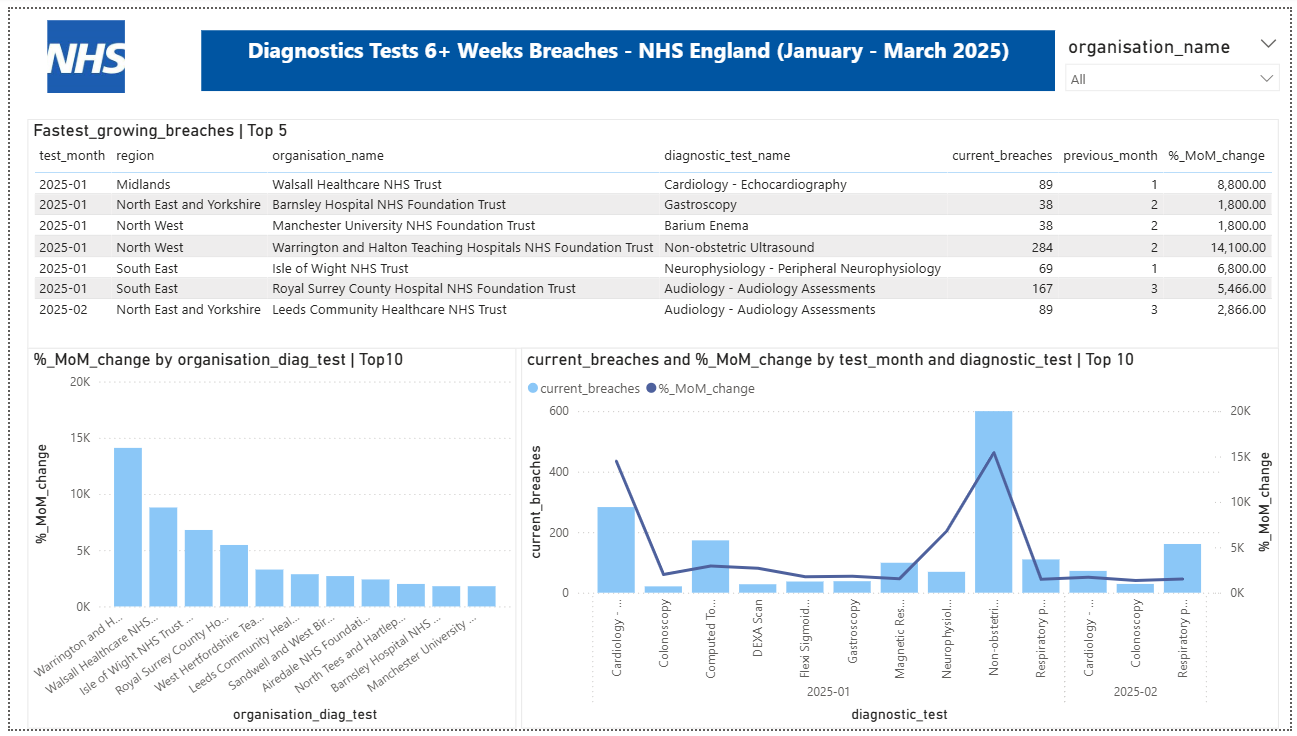

The page's visual inventory and layout, read from the dashboard file:
{"tool":"powerbi","page":{"name":"Diagnostics_Waiting_Times","canvas":[1280,720],"ordinal":2},"visuals":[{"type":"textbox","box":[190.8,20.8,854.8,61.1],"z":0},{"type":"image","box":[32.3,0,87.1,95.2],"z":1000},{"type":"clusteredColumnChart","title":"%_MoM_change by organisation_diag_test | Top10","fields":{"Category":["public diagnostics_6plus_weeks_breaches_analysis.organisation_diag_test"],"Y":["Sum(public diagnostics_6plus_weeks_breaches_analysis.percent_monthly_change)"]},"box":[17.3,339,489.1,380.9],"z":2000},{"type":"tableEx","title":"Fastest_growing_breaches | Top 5","fields":{"Values":["public diagnostics_6plus_weeks_breaches_analysis.test_month","public diagnostics_6plus_weeks_breaches_analysis.regional_name","public diagnostics_6plus_weeks_breaches_analysis.organisation_name","public diagnostics_6plus_weeks_breaches_analysis.diagnostic_test_name","public diagnostics_6plus_weeks_breaches_analysis.breaches_6plus_weeks","public diagnostics_6plus_weeks_breaches_analysis.previous_month_6plus_weeks_breaches","public diagnostics_6plus_weeks_breaches_analysis.percent_monthly_change"]},"box":[17.3,109.6,1250.9,229.4],"z":3000},{"type":"lineClusteredColumnComboChart","title":"current_breaches and %_MoM_change by test_month and diagnostic_test | Top 10","fields":{"Category":["public diagnostics_6plus_weeks_breaches_analysis.test_month","public diagnostics_6plus_weeks_breaches_analysis.diagnostic_test_name"],"Y":["Sum(public diagnostics_6plus_weeks_breaches_analysis.breaches_6plus_weeks)"],"Y2":["Sum(public diagnostics_6plus_weeks_breaches_analysis.percent_monthly_change)"]},"box":[510.7,339,757.4,380.9],"z":4000},{"type":"slicer","fields":{"Values":["public diagnostics_6plus_weeks_breaches_analysis.organisation_name"]},"box":[1045.3,20.9,234.4,88.1],"z":5000}]}

Visuals, with their boxes in screenshot pixels (x1, y1, x2, y2), scaled from the page's 1280x720 canvas onto the 1297x736 screenshot:
textbox: select_region(193, 21, 1059, 84)
image: select_region(33, 0, 121, 97)
"%_MoM_change by organisation_diag_test | Top10" clusteredColumnChart: select_region(18, 347, 513, 735)
"Fastest_growing_breaches | Top 5" tableEx: select_region(18, 112, 1285, 347)
"current_breaches and %_MoM_change by test_month and diagnostic_test | Top 10" lineClusteredColumnComboChart: select_region(517, 347, 1285, 735)
slicer - public diagnostics_6plus_weeks_breaches_analysis.organisation_name: select_region(1059, 21, 1296, 111)
